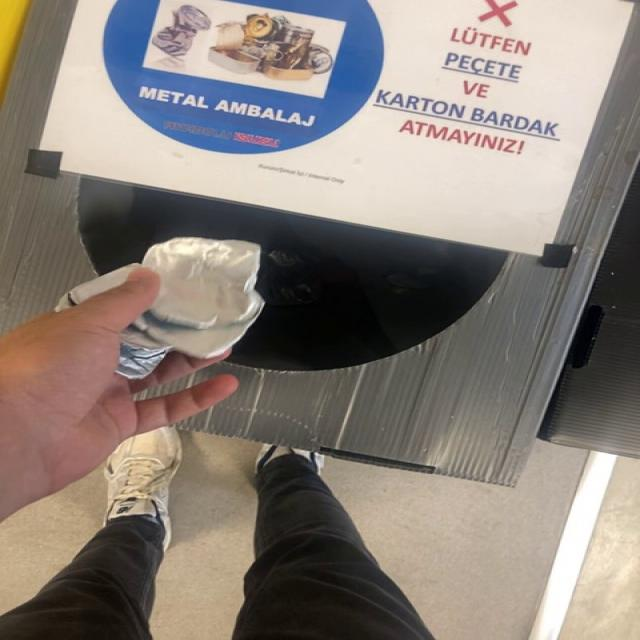metal: (116, 291, 264, 380), (143, 238, 261, 330), (56, 264, 136, 310)
